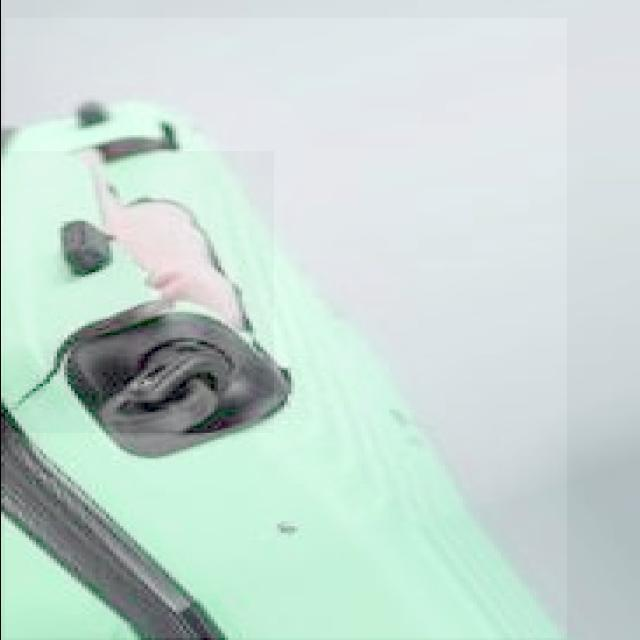Damage-bag: (22, 124, 291, 456)
